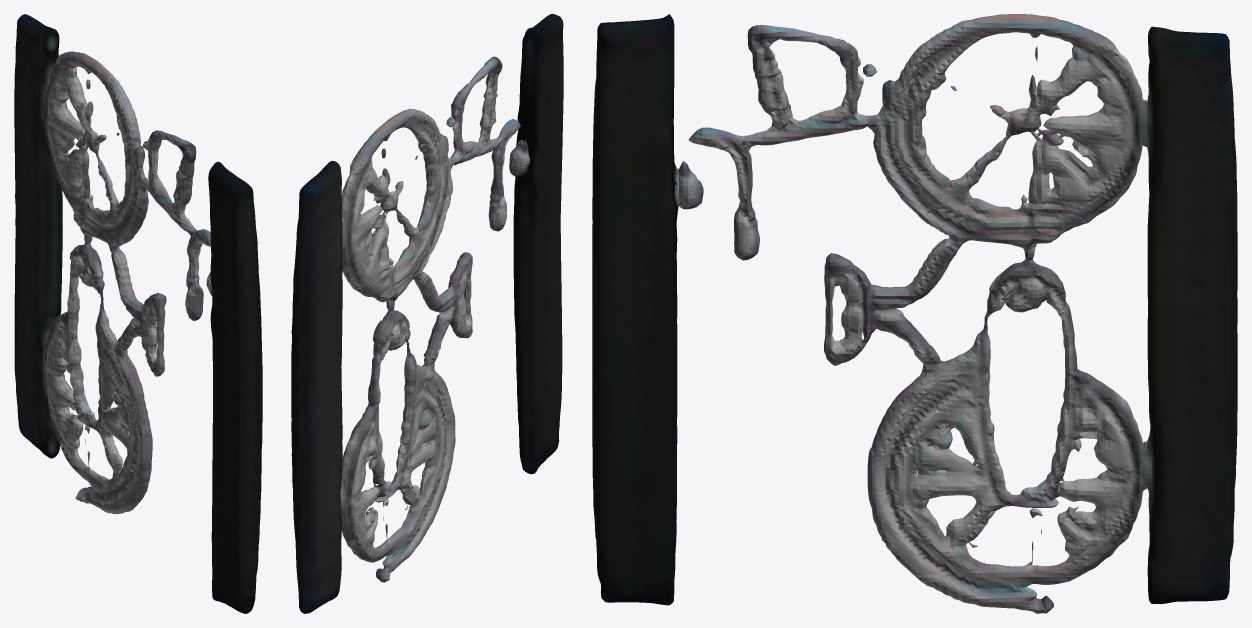
The model's file is 000011_bicycle_vehicle_cycling.glb.
3 views of the same model, side by side, from view 1: azimuth 30°, elevation 25°; view 2: azimuth 150°, elevation 25°; view 3: azimuth 270°, elevation 25° (orthographic). The views are drawn at different scales.
Visible parts, largest first — view 1: world; view 2: world; view 3: world.
Boxes of the visible parts, x1,y1,x2,y2 form: world: [14, 14, 262, 613]; world: [291, 14, 563, 613]; world: [592, 14, 1237, 613].
Size of the model in its own units: 0.0886 by 0.9828 by 0.9589.
